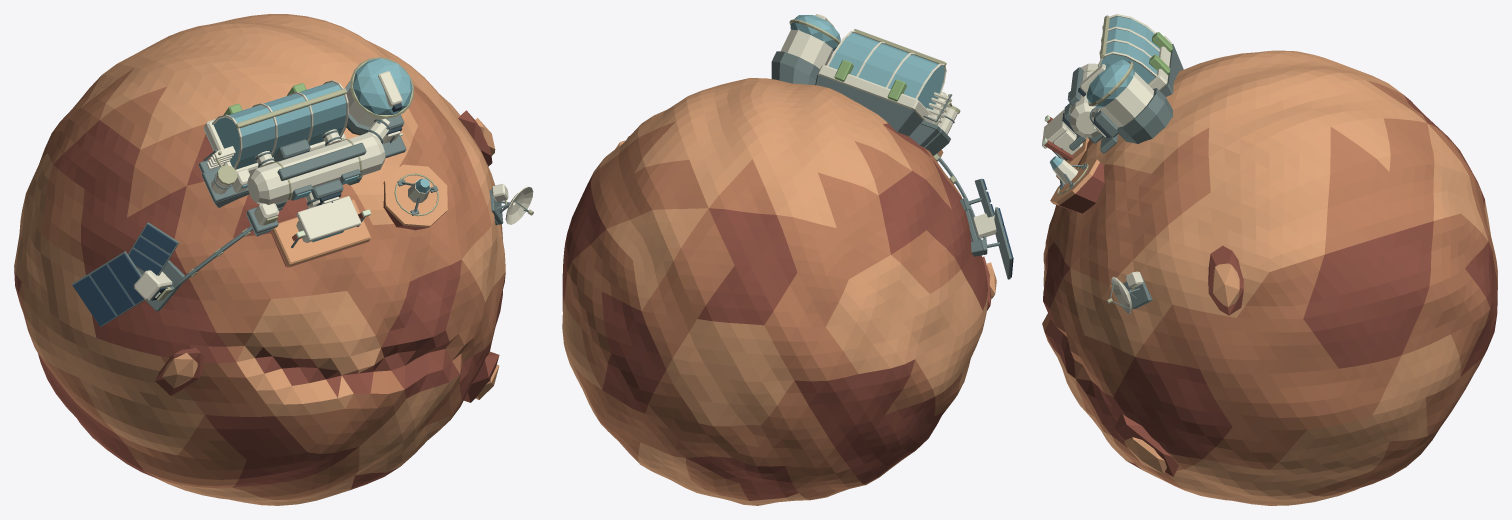
The model's file is Mars.glb.
3 views of the same model, side by side, from view 1: azimuth 30°, elevation 25°; view 2: azimuth 150°, elevation 25°; view 3: azimuth 270°, elevation 25° (orthographic). The views are drawn at different scales.
Visible parts, largest first — view 1: S3_Mars • modeled surfaces; view 2: S3_Mars • modeled surfaces; view 3: S3_Mars • modeled surfaces.
Boxes of the visible parts, left/top/right/bottom form: S3_Mars • modeled surfaces: left=14, top=14, right=533, bottom=505; S3_Mars • modeled surfaces: left=562, top=14, right=1013, bottom=505; S3_Mars • modeled surfaces: left=1042, top=14, right=1497, bottom=505.
Bounding box in the file's own units: 1.73 × 1.77 × 1.65.
